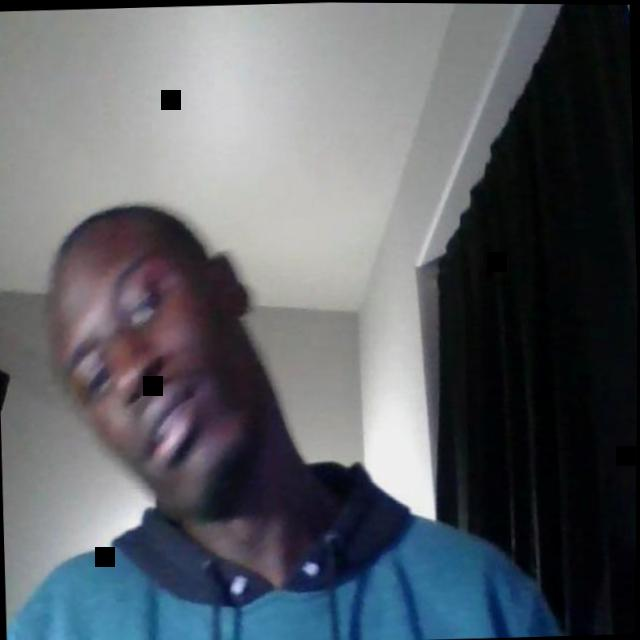NO-Mask: (51, 236, 267, 527)
